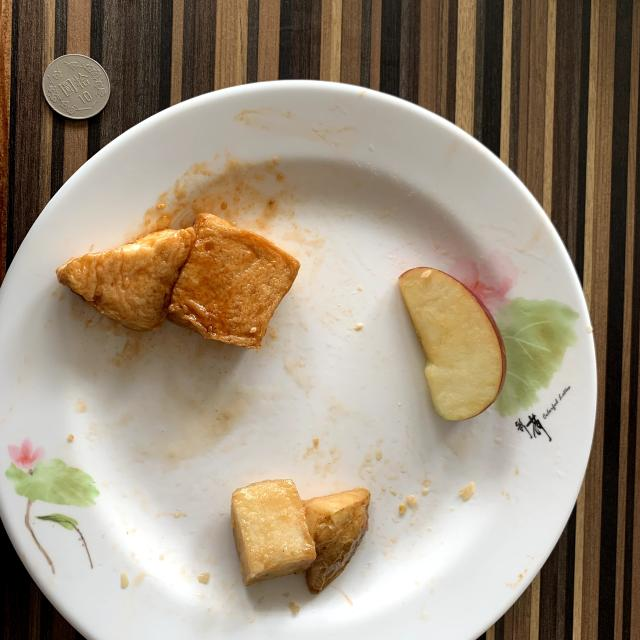apple -sliced-: (399, 268, 506, 420)
coin: (42, 54, 110, 120)
creamy tofu: (56, 214, 300, 349)
fried potato: (231, 479, 370, 594)
